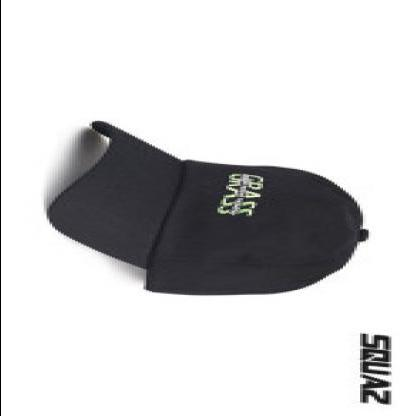cap: (43, 111, 379, 300)
